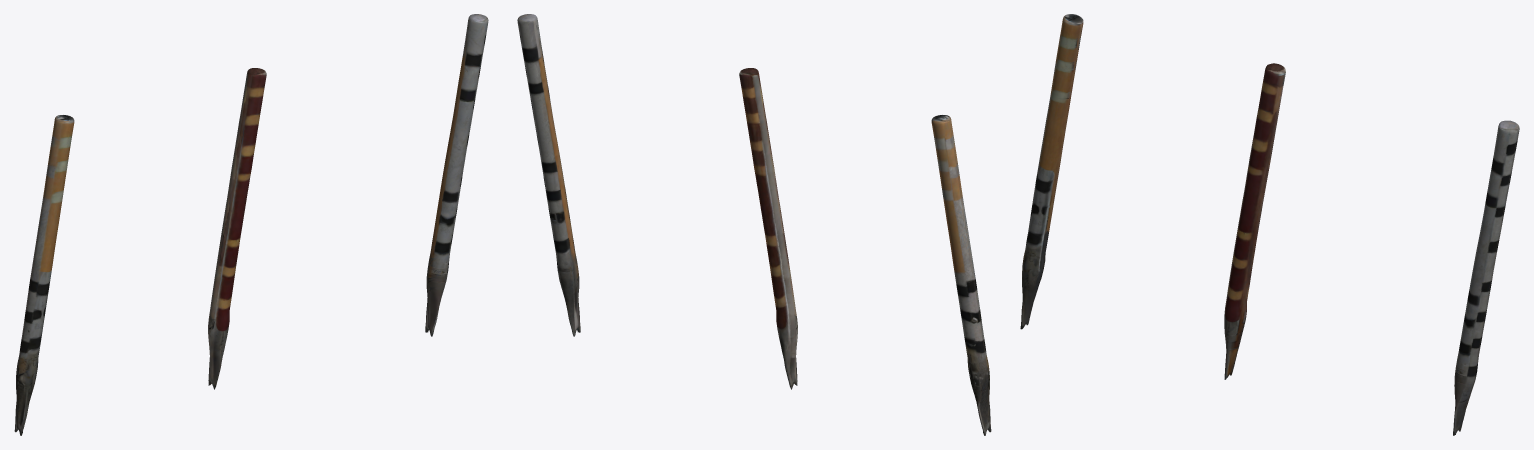
File: asset.glb
The picture shows the model from 3 angles, left to right: view 1: azimuth 30°, elevation 25°; view 2: azimuth 150°, elevation 25°; view 3: azimuth 330°, elevation 25°; orthographic projection. The views are drawn at different scales.
Visible parts, largest first — view 1: Mesh_0; view 2: Mesh_0; view 3: Mesh_0.
Part boxes in pixels (x1,y1,x2,y2): Mesh_0: [14, 14, 488, 435]; Mesh_0: [517, 14, 991, 435]; Mesh_0: [1020, 14, 1519, 435].
Bounding box in the file's own units: 0.8114 × 0.508 × 0.0325.
1 material, 1 textured.
